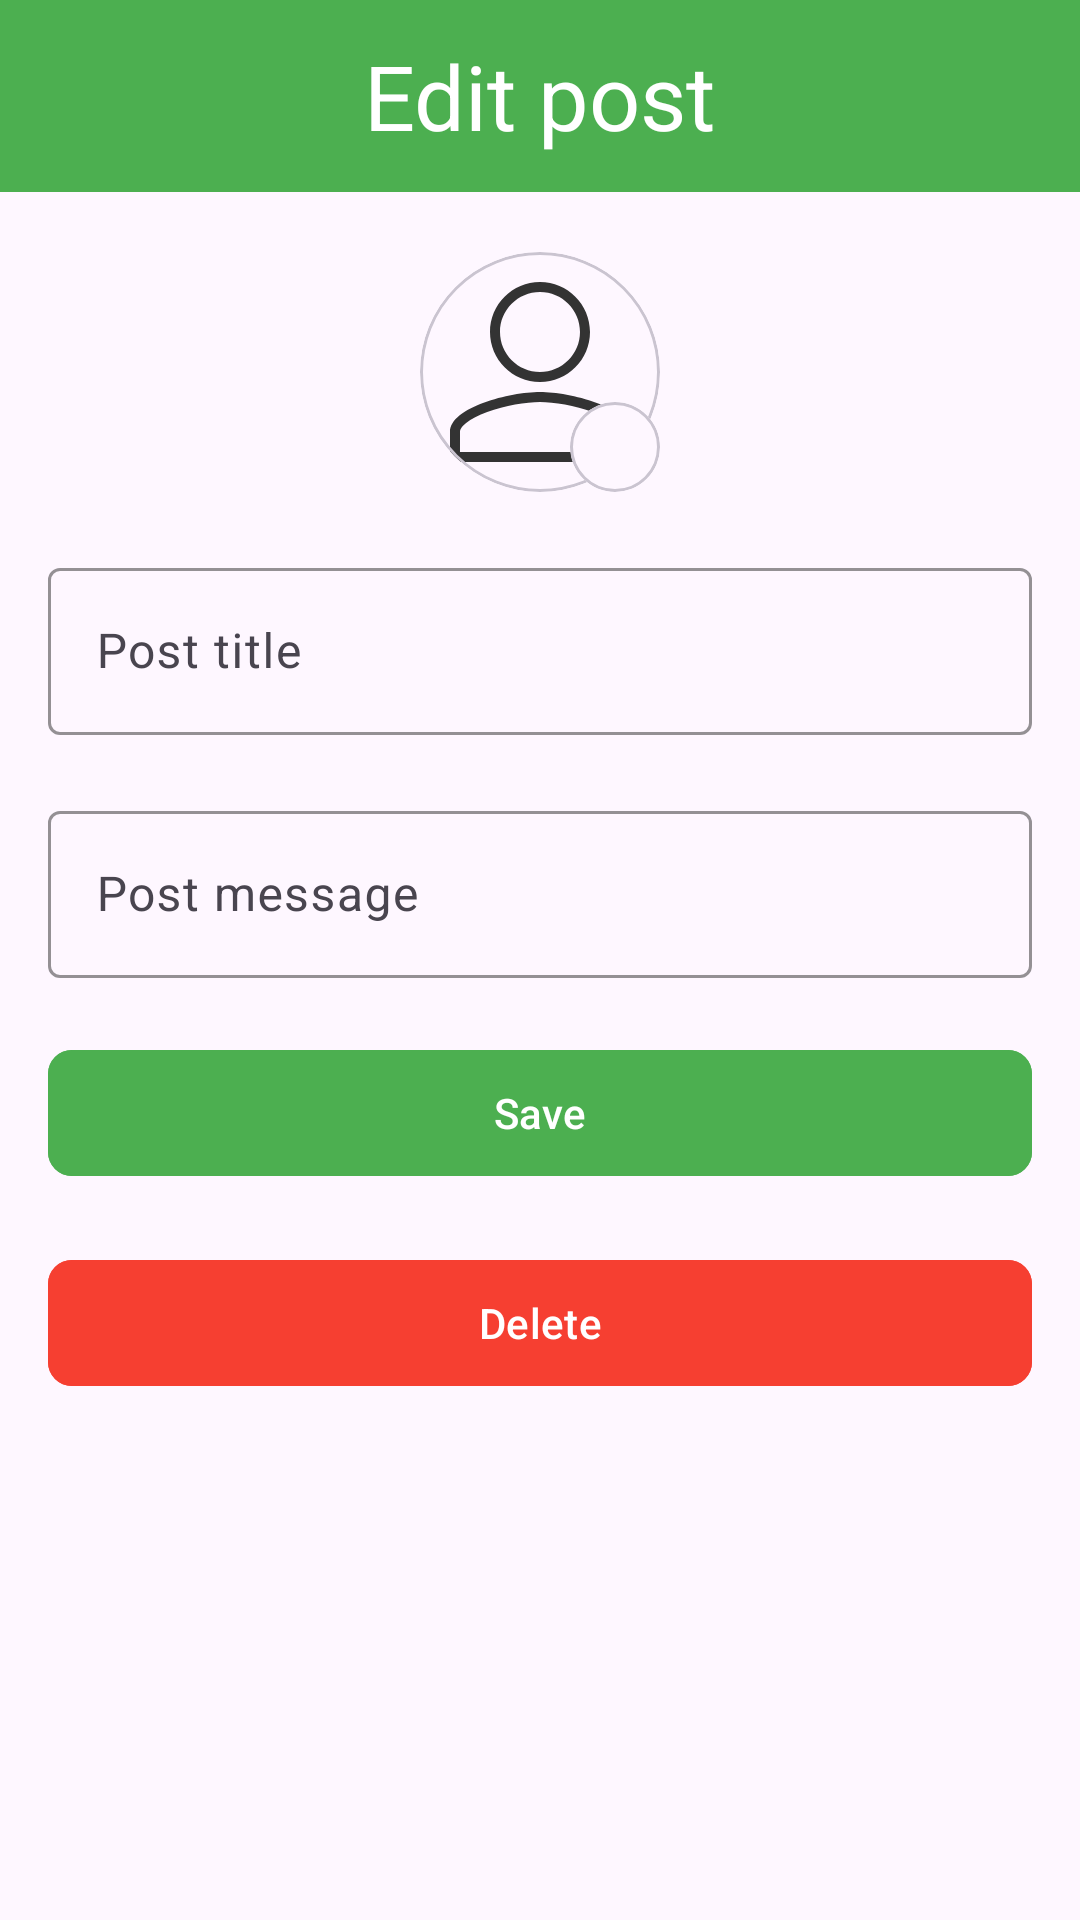

Icon bounding boxes for this 1080w x 1920h phone screenshot, format [x1=x1, y1=y1, x2=x2, y2=y2]:
user: [x1=420, y1=252, x2=660, y2=492]
